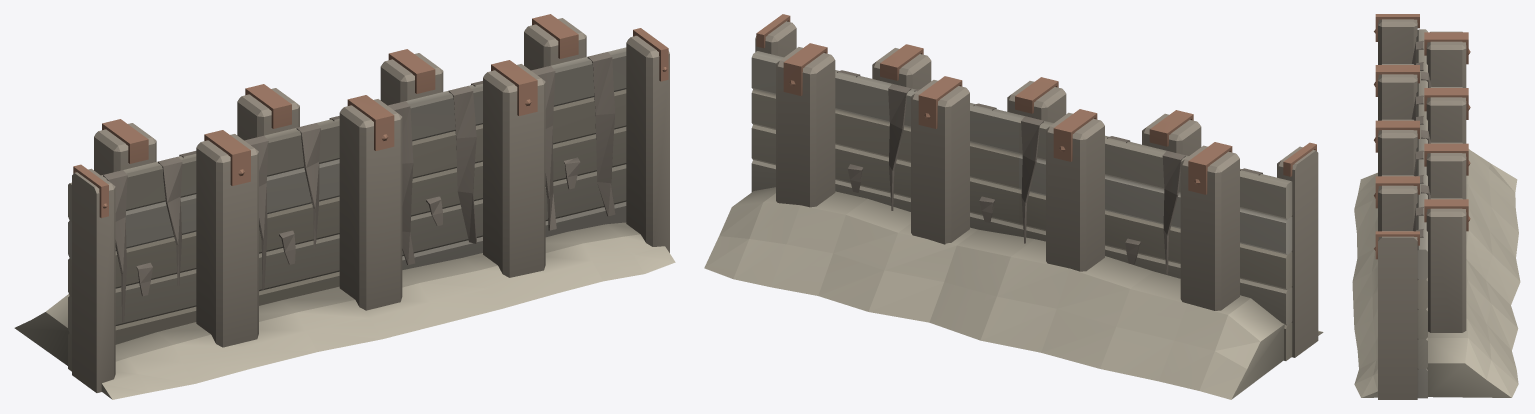
Rendered from groyne.glb.
3 views of the same model, side by side, from view 1: azimuth 30°, elevation 25°; view 2: azimuth 150°, elevation 25°; view 3: azimuth 270°, elevation 25° (orthographic). The views are drawn at different scales.
Visible parts, largest first — view 1: groyne; view 2: groyne; view 3: groyne.
Part boxes in pixels (box(x1,y1,x2,y2)): groyne: box(14, 14, 675, 399); groyne: box(704, 14, 1323, 399); groyne: box(1352, 14, 1520, 399).
Bounding box in the file's own units: 4 × 1.42 × 1.28.
